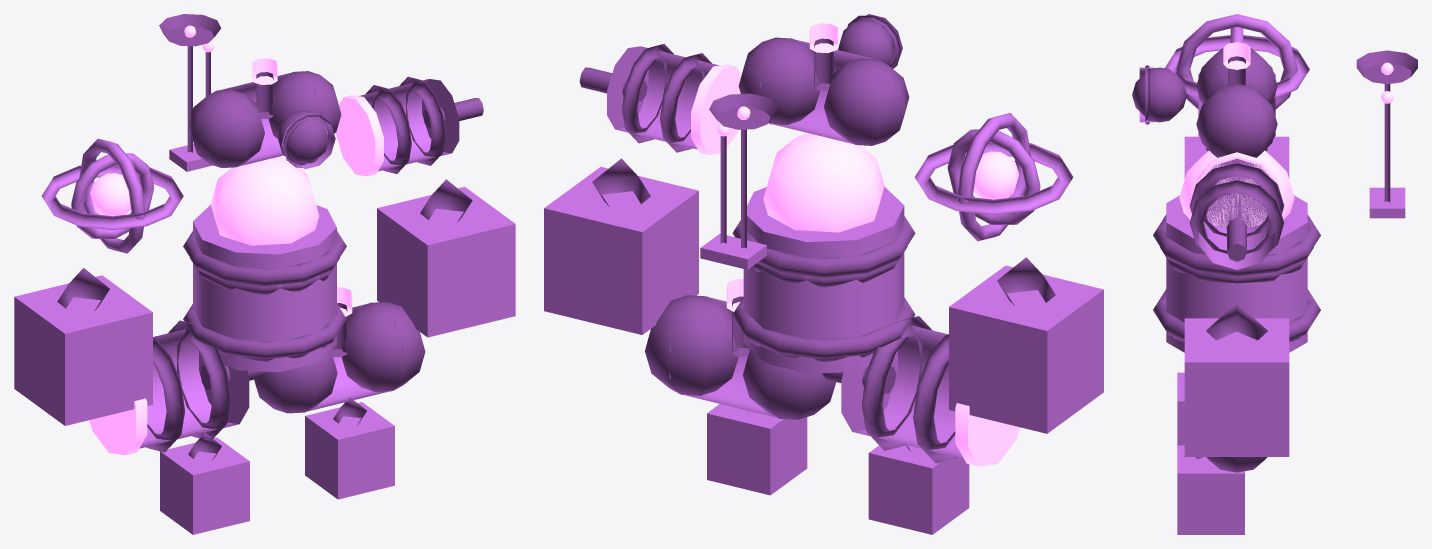
The model's file is golem_094.glb.
The picture shows the model from 3 angles, left to right: view 1: azimuth 30°, elevation 25°; view 2: azimuth 150°, elevation 25°; view 3: azimuth 270°, elevation 25°; orthographic projection. The views are drawn at different scales.
Visible parts, largest first — view 1: Body, Detail, Glow; view 2: Body, Detail, Glow; view 3: Body, Detail, Glow.
Part boxes in pixels (x1,y1,x2,y2): Body: (14,72,515,534); Detail: (57,14,483,460); Glow: (89,25,383,455); Body: (544,14,1103,534); Detail: (579,15,1055,463); Glow: (691,23,1020,466); Body: (1139,14,1405,534); Detail: (1132,48,1417,472); Glow: (1179,42,1393,228).
Size of the model in its own units: 1.57 by 1.41 by 0.8385.
